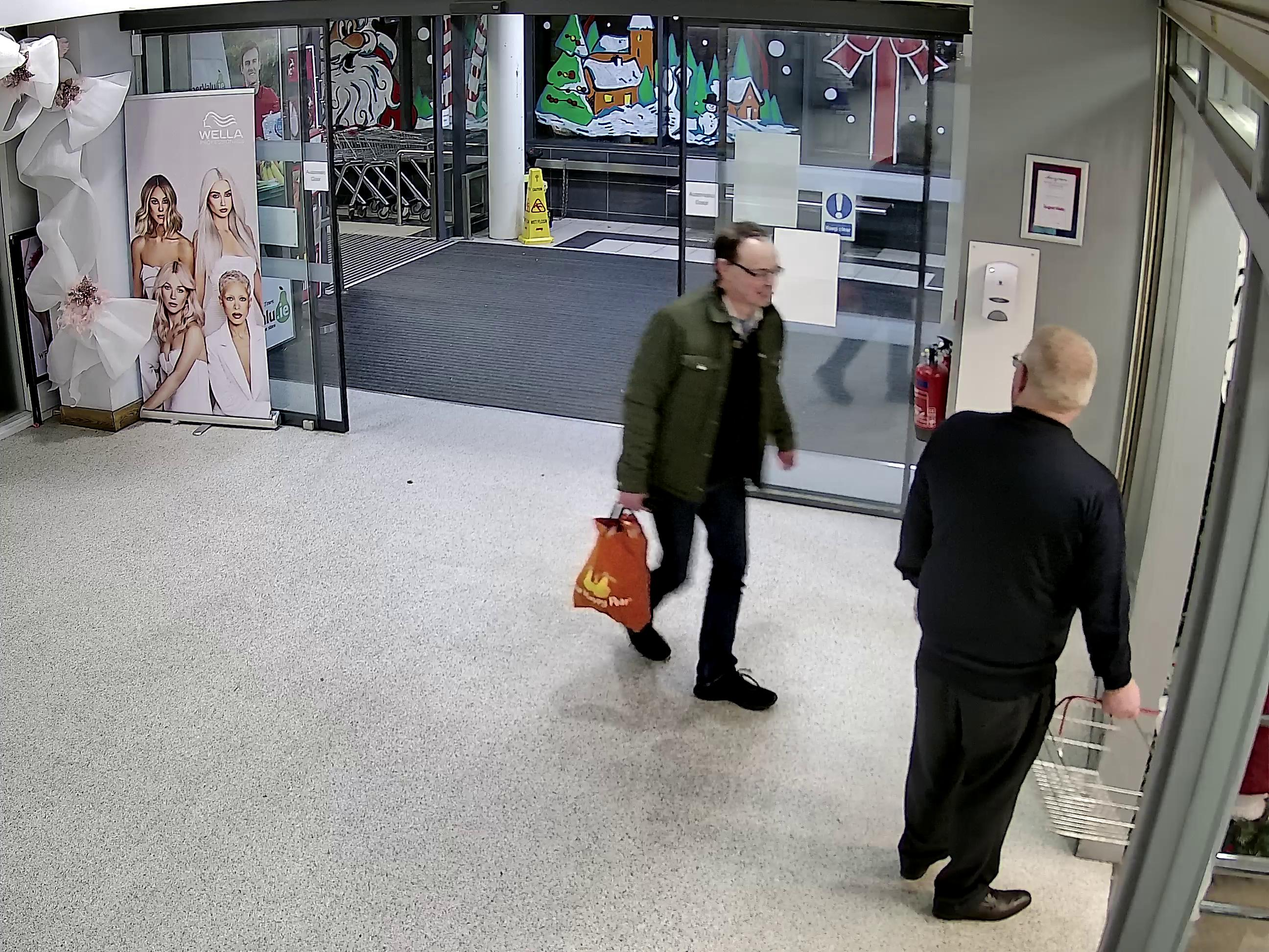empty-basket: (1032, 697, 1187, 844)
filled-shopping-bags: (571, 503, 654, 632)
person: (894, 329, 1138, 922), (622, 221, 795, 707)
person-with-empty-basket-trolly: (893, 329, 1187, 916)
person-with-filled-shopping-bag-s-: (571, 223, 799, 706)
